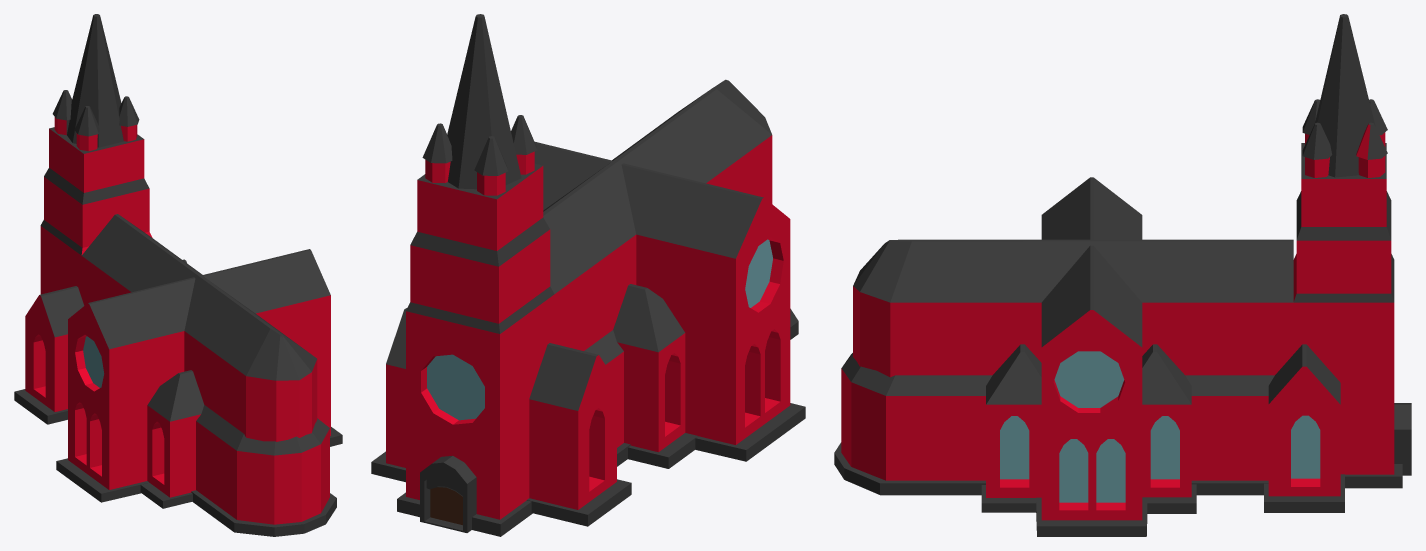
The model's file is Kerk.fbx.
3 views of the same model, side by side, from view 1: azimuth 30°, elevation 25°; view 2: azimuth 150°, elevation 25°; view 3: azimuth 270°, elevation 25° (orthographic). The views are drawn at different scales.
Parts seen in each view (by area): view 1: Cube; view 2: Cube; view 3: Cube.
Boxes of the visible parts, x1,y1,x2,y2 form: Cube: [14, 14, 342, 536]; Cube: [371, 14, 805, 536]; Cube: [834, 14, 1411, 536].
Bounding box in the file's own units: 1355 × 1979 × 2290.
